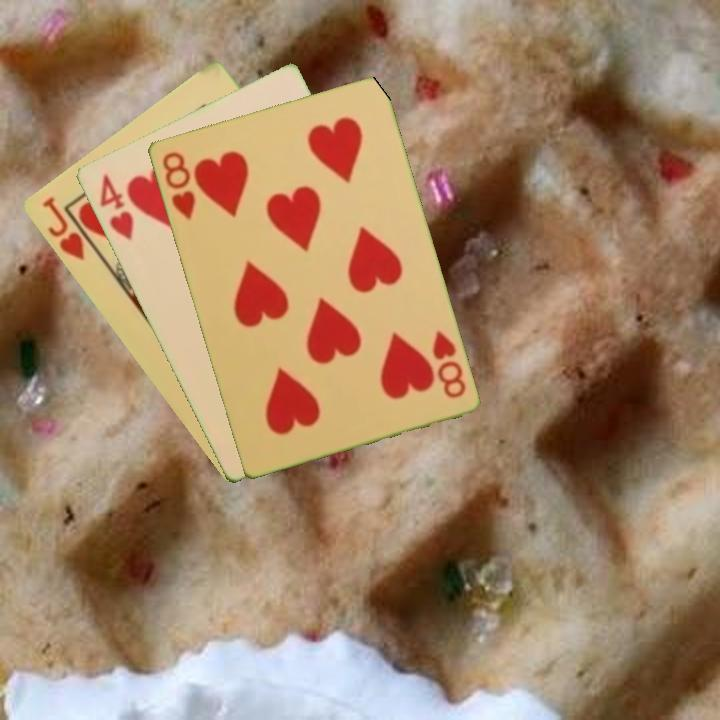4h: (95, 170, 136, 243)
8h: (158, 148, 198, 223), (428, 326, 468, 401)
Jh: (38, 193, 87, 264)
